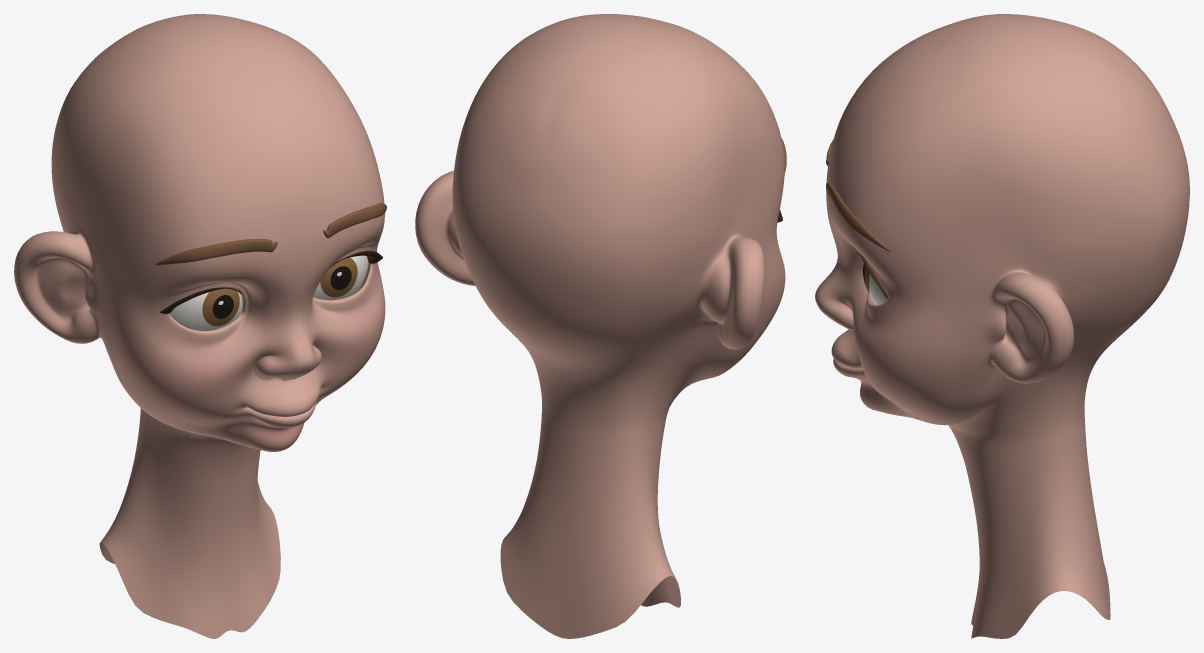
File: lingya-face.gltf
The picture shows the model from 3 angles, left to right: view 1: azimuth 30°, elevation 25°; view 2: azimuth 150°, elevation 25°; view 3: azimuth 270°, elevation 25°; orthographic projection. The views are drawn at different scales.
Parts seen in each view (by area): view 1: Lingya-head, Lingya-eyes_viewport, Lingya-eyebrows, Lingya-eyelashes; view 2: Lingya-head; view 3: Lingya-head, Lingya-eyebrows.
Boxes of the visible parts, x1=… form: Lingya-head: x1=14, y1=14, x2=385, y2=638; Lingya-eyes_viewport: x1=169, y1=255, x2=368, y2=330; Lingya-eyebrows: x1=155, y1=203, x2=386, y2=265; Lingya-eyelashes: x1=160, y1=250, x2=382, y2=313; Lingya-head: x1=415, y1=14, x2=785, y2=638; Lingya-head: x1=815, y1=14, x2=1189, y2=638; Lingya-eyebrows: x1=826, y1=140, x2=890, y2=252.
Bounding box in the file's own units: 0.1909 × 0.3114 × 0.1765.
